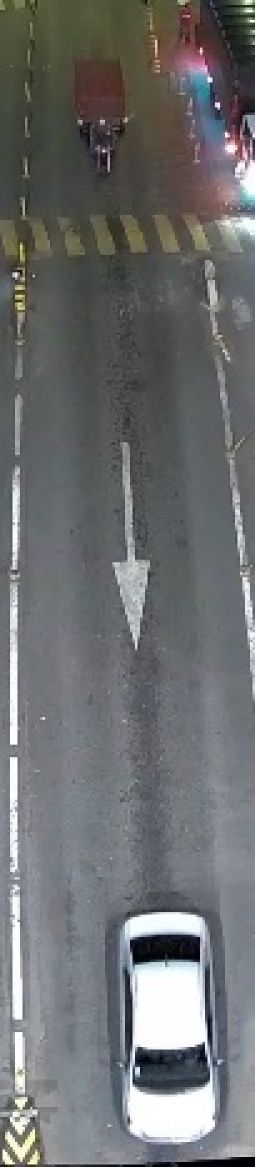bike: (69, 110, 129, 178)
car: (106, 899, 234, 1151)
truck: (184, 1, 253, 200)
